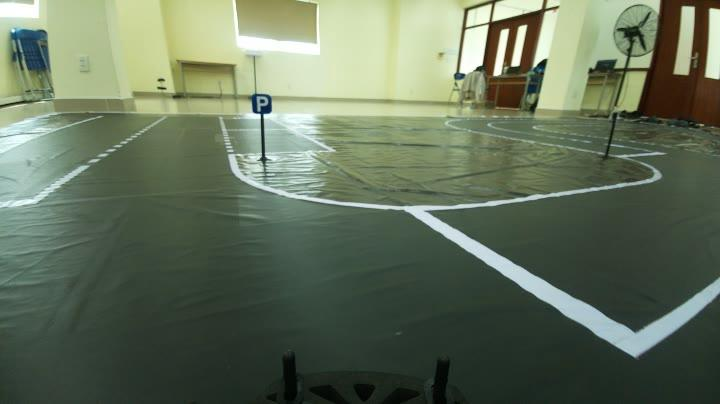parking: (246, 94, 277, 117)
